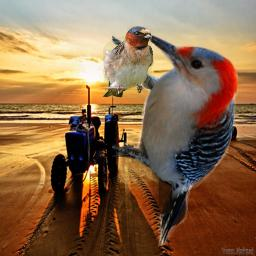Swallow: (102, 26, 155, 98)
Woodpecker: (112, 31, 238, 246)
